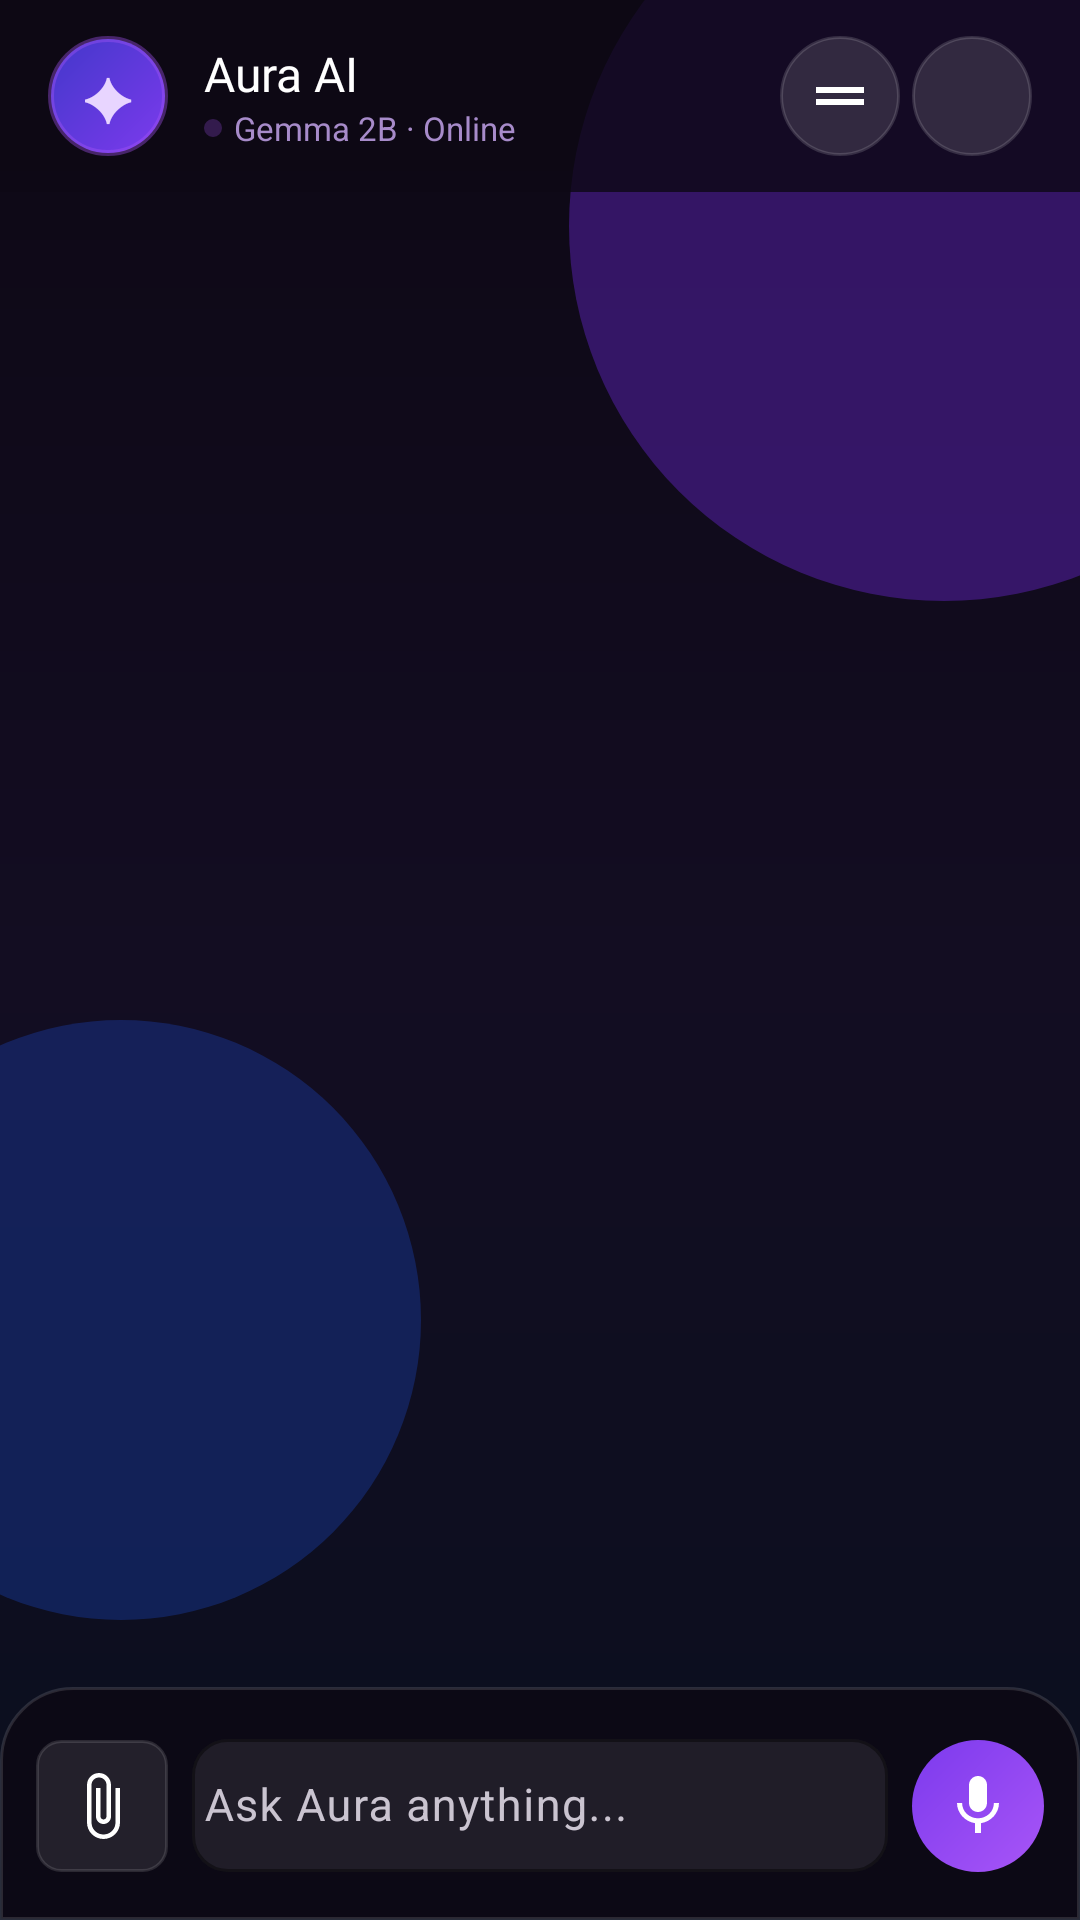

Named icons in this screenshot (1080px x 1920px) and their centers, [x,y]:
Attach image or file: [102,1806]
Voice input: [978,1806]
